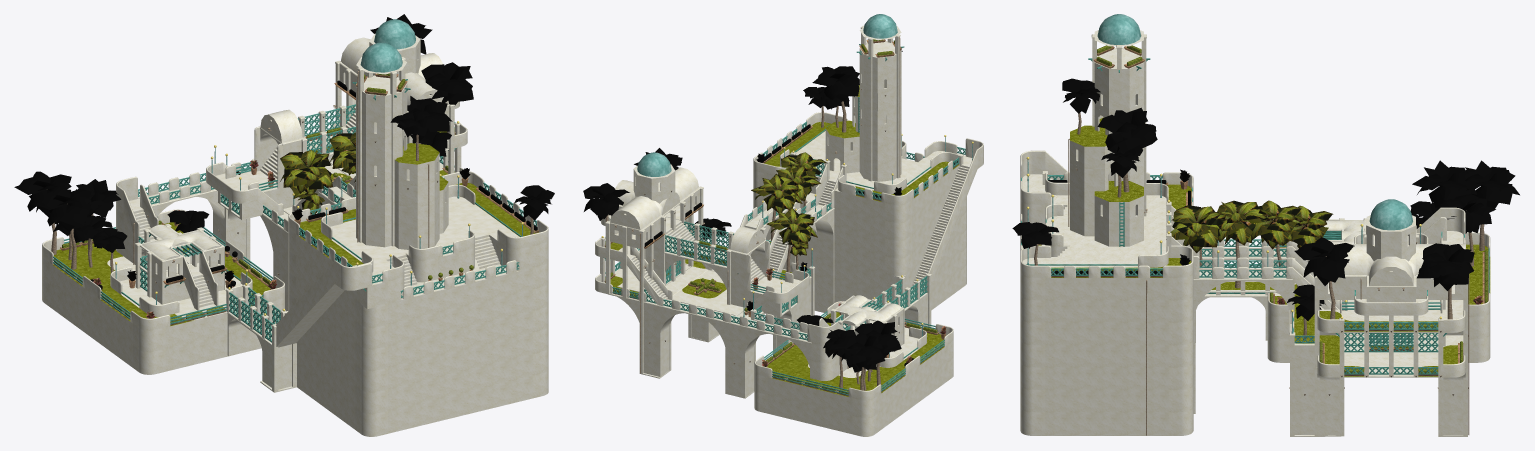
The model's file is GreekModularEnvironment.obj.
3 renders of one model, left to right at view 1: azimuth 30°, elevation 25°; view 2: azimuth 150°, elevation 25°; view 3: azimuth 270°, elevation 25°, orthographic. The views are drawn at different scales.
Parts seen in each view (by area): view 1: RoofLowCurveFront4; view 2: RoofLowCurveFront4; view 3: RoofLowCurveFront4.
Boxes of the visible parts, x1,y1,x2,y2 form: RoofLowCurveFront4: (14,14,554,436); RoofLowCurveFront4: (583,14,983,436); RoofLowCurveFront4: (1012,14,1519,436).
Bounding box in the file's own units: 18.73 × 15.94 × 20.55.
Materials: 23 (19 with a texture image).
